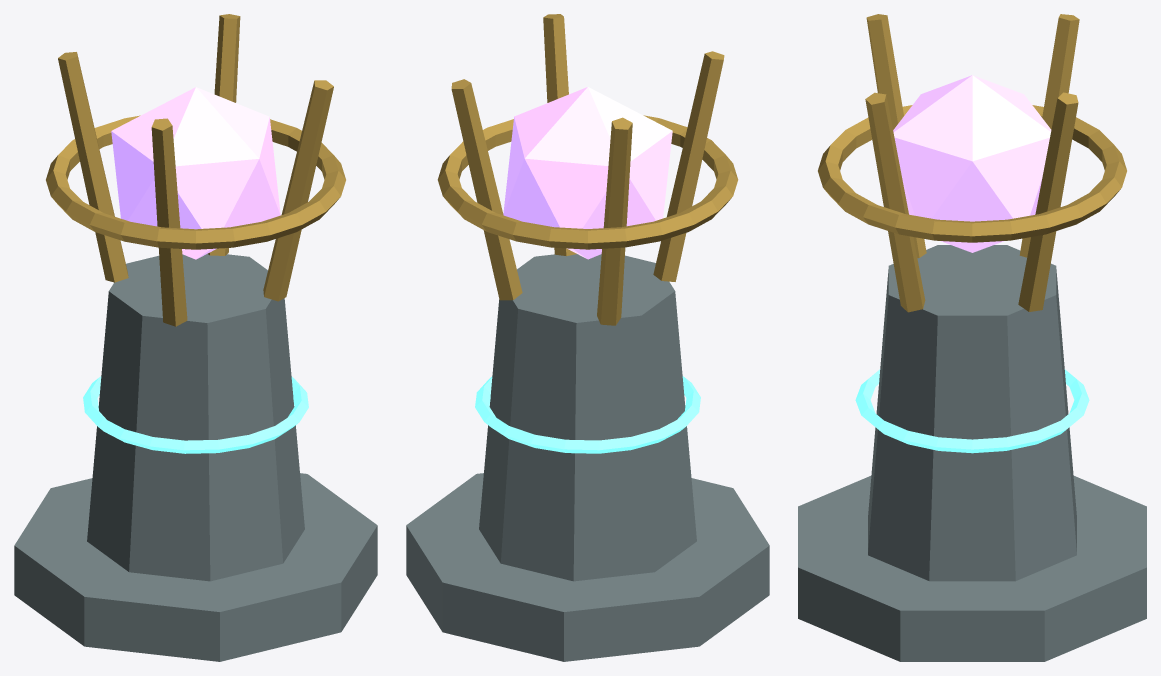
Rendered from beam_receptor.glb.
3 renders of one model, left to right at view 1: azimuth 30°, elevation 25°; view 2: azimuth 150°, elevation 25°; view 3: azimuth 270°, elevation 25°, orthographic. The views are drawn at different scales.
Visible parts, largest first — view 1: ReceptorBody, ReceptorGem; view 2: ReceptorBody, ReceptorGem; view 3: ReceptorBody, ReceptorGem.
Boxes of the visible parts, x1,y1,x2,y2 form: ReceptorBody: (14, 14, 377, 661); ReceptorGem: (111, 87, 280, 259); ReceptorBody: (406, 14, 769, 661); ReceptorGem: (503, 87, 672, 259); ReceptorBody: (798, 14, 1146, 661); ReceptorGem: (893, 75, 1051, 252).
Bounding box in the file's own units: 0.9239 × 1.56 × 0.9239.
